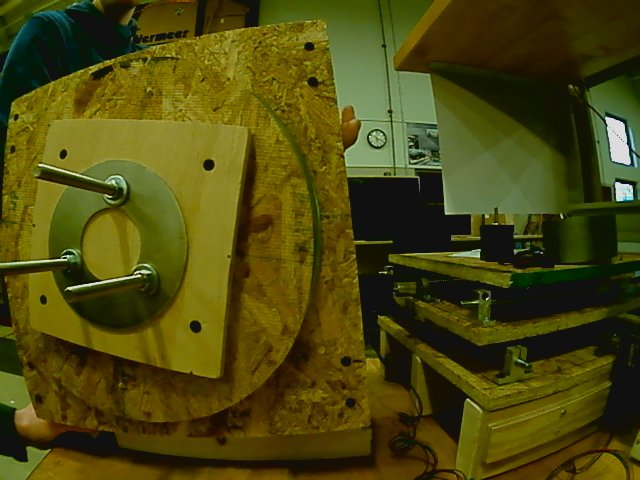bolt: (128, 260, 161, 300), (98, 171, 132, 209), (56, 246, 83, 282)
